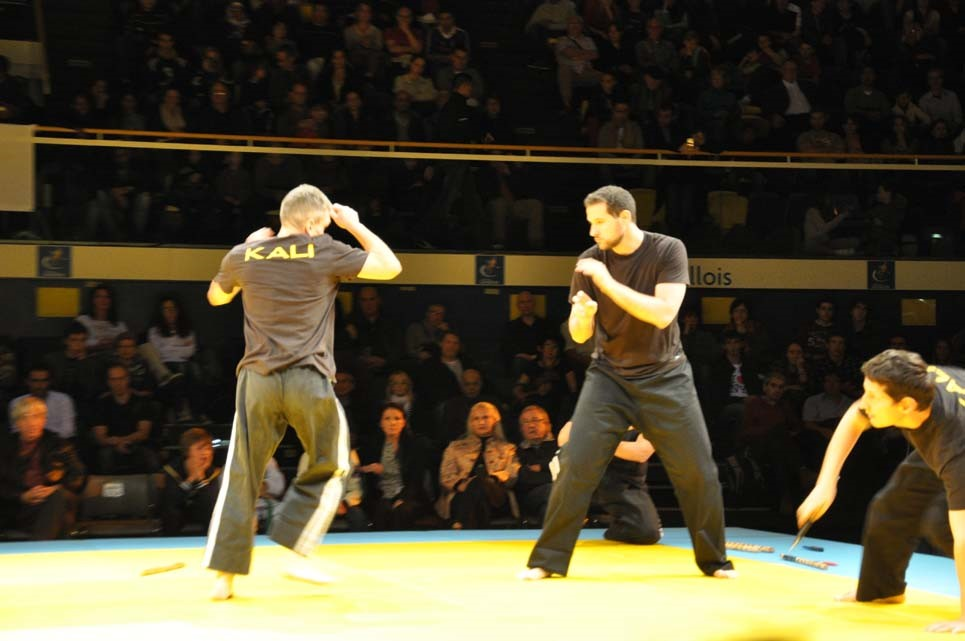baston_e: (783, 552, 823, 570), (725, 541, 770, 553)
baston_v: (819, 560, 829, 570), (765, 543, 773, 553)
